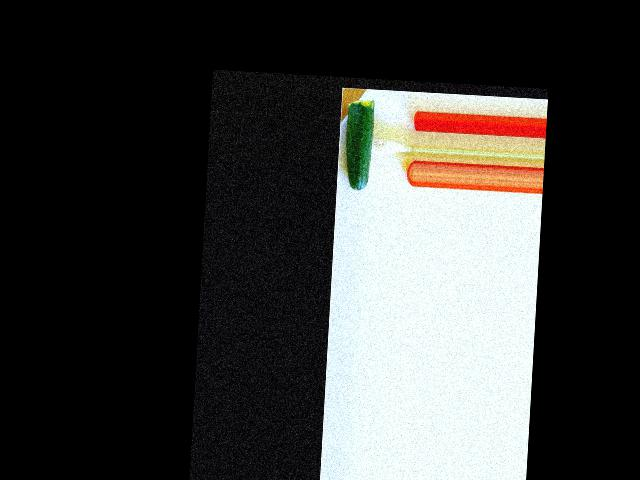cucumber: (342, 98, 374, 191)
